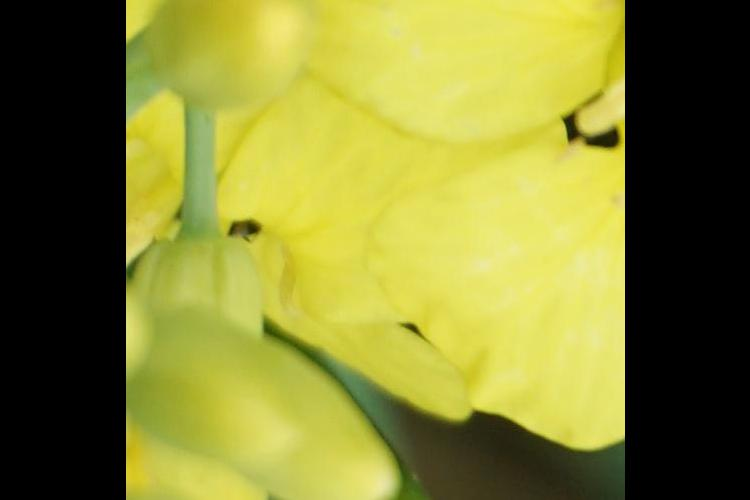bud: (146, 304, 389, 500), (133, 246, 281, 500), (153, 1, 304, 106)
yellow: (256, 1, 624, 449)
